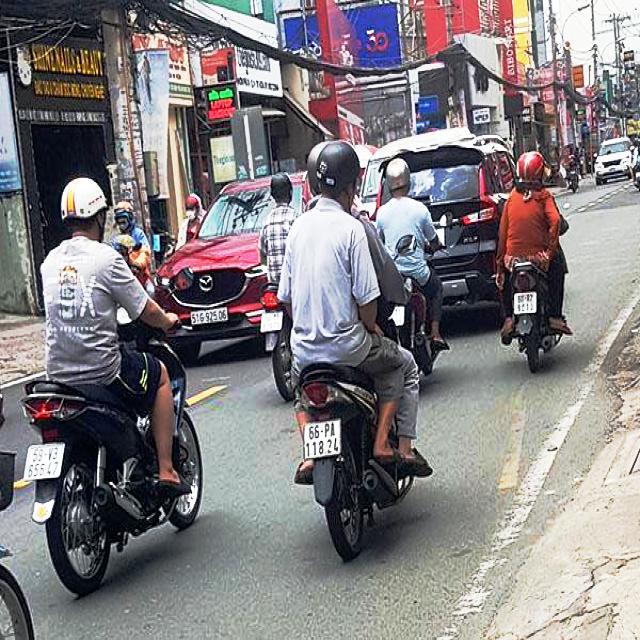license_plate: (25, 444, 66, 480), (306, 419, 342, 460)
